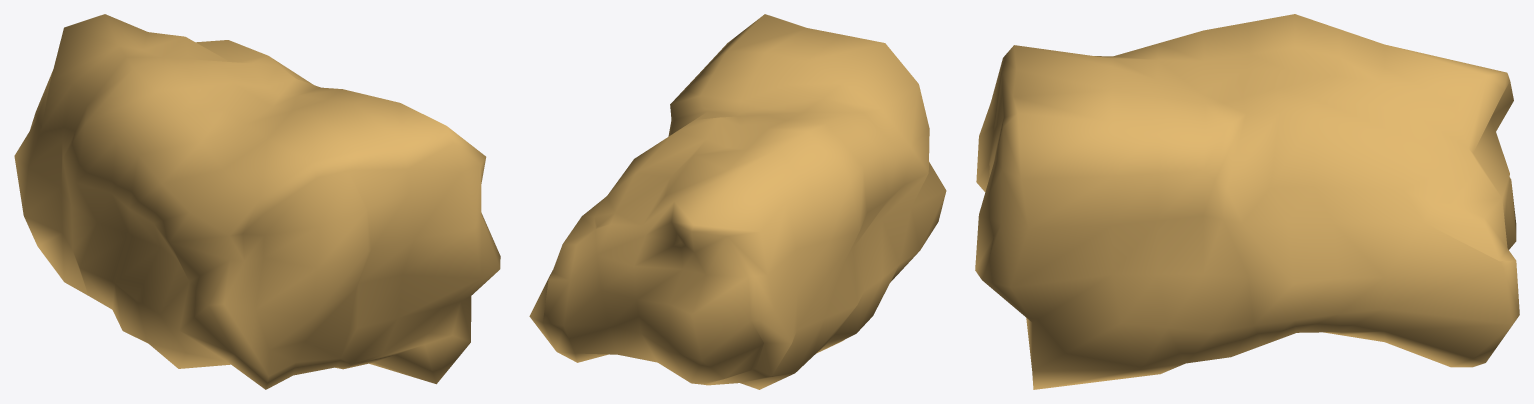
Rendered from RockyWall04.fbx.
3 views of the same model, side by side, from view 1: azimuth 30°, elevation 25°; view 2: azimuth 150°, elevation 25°; view 3: azimuth 270°, elevation 25° (orthographic). The views are drawn at different scales.
Visible parts, largest first — view 1: Wall; view 2: Wall; view 3: Wall.
Part boxes in pixels (x1,y1,x2,y2): Wall: [14, 14, 500, 389]; Wall: [529, 14, 946, 389]; Wall: [975, 14, 1519, 389].
Size of the model in its own units: 1814 by 1596 by 2759.
